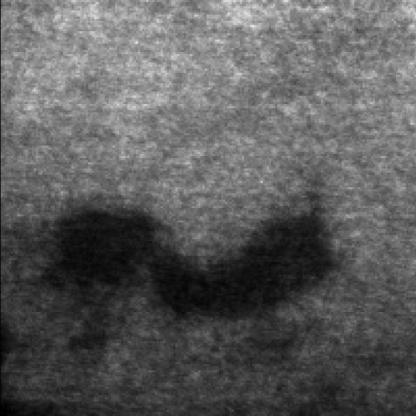patches: (131, 214, 333, 333), (29, 212, 177, 320)
